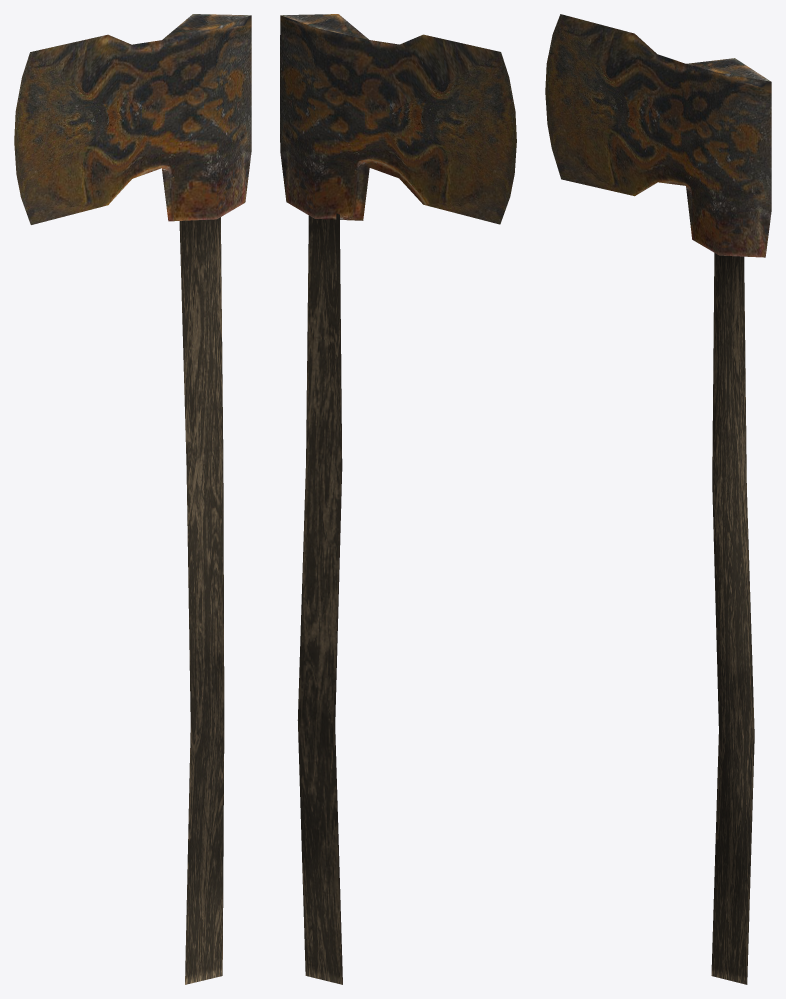
Rendered from axe2_LOD1.FBX.
3 views of the same model, side by side, from view 1: azimuth 30°, elevation 25°; view 2: azimuth 150°, elevation 25°; view 3: azimuth 330°, elevation 25° (orthographic). The views are drawn at different scales.
Visible parts, largest first — view 1: axe2_LOD1; view 2: axe2_LOD1; view 3: axe2_LOD1.
Part boxes in pixels (x1,y1,x2,y2): axe2_LOD1: (14, 14, 251, 984); axe2_LOD1: (280, 14, 516, 984); axe2_LOD1: (545, 14, 771, 984).
Bounding box in the file's own units: 30.09 × 118 × 4.42.
